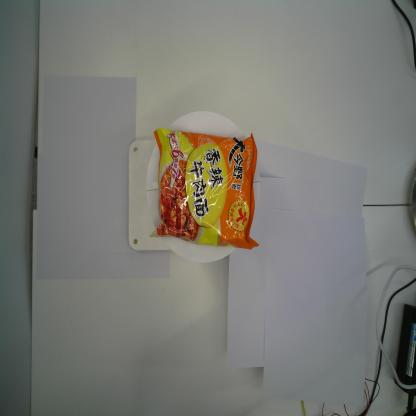Instant Noodles: (147, 124, 262, 252)
